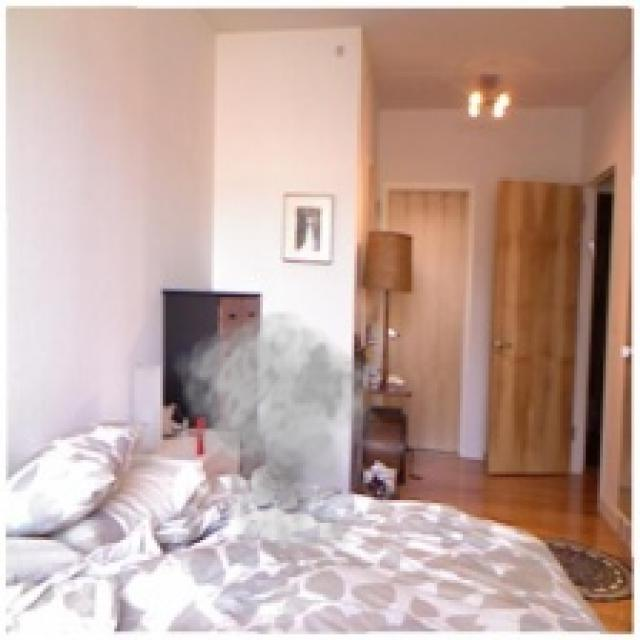smoke: (172, 309, 388, 574)
